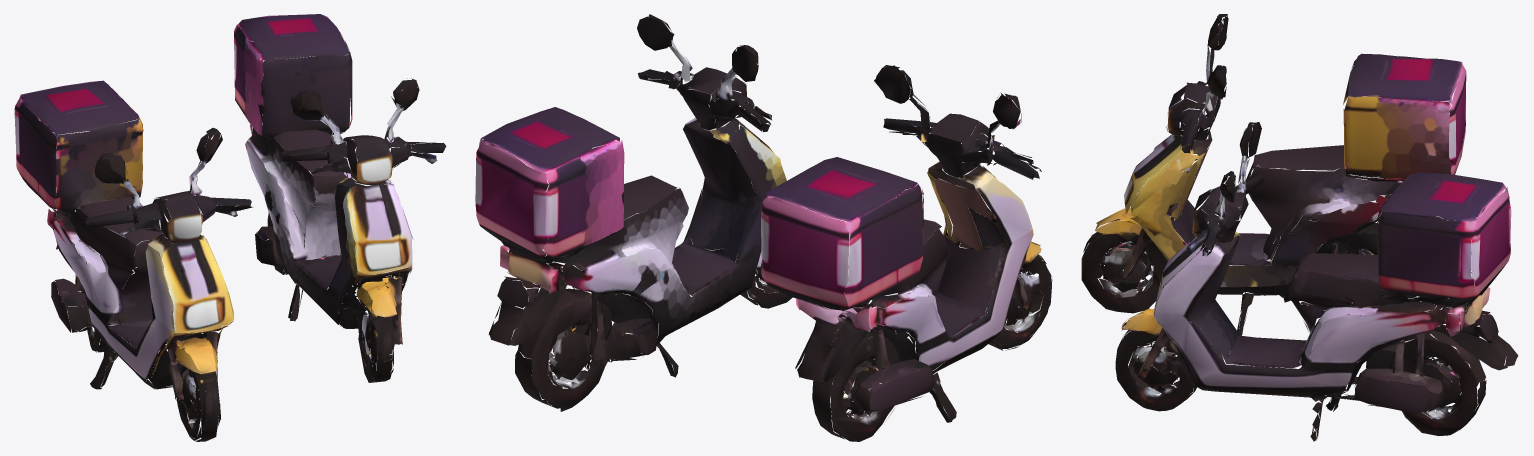
The model's file is h3-scooter-row.glb.
3 views of the same model, side by side, from view 1: azimuth 30°, elevation 25°; view 2: azimuth 150°, elevation 25°; view 3: azimuth 270°, elevation 25° (orthographic). The views are drawn at different scales.
Visible parts, largest first — view 1: tmp1t7vugfz.ply; view 2: tmp1t7vugfz.ply; view 3: tmp1t7vugfz.ply.
Boxes of the visible parts, x1=… form: tmp1t7vugfz.ply: x1=14, y1=14, x2=446, y2=441; tmp1t7vugfz.ply: x1=475, y1=14, x2=1052, y2=441; tmp1t7vugfz.ply: x1=1081, y1=14, x2=1518, y2=441.
Bounding box in the file's own units: 2 × 1.38 × 1.97.
Materials: 1 (1 with a texture image).
